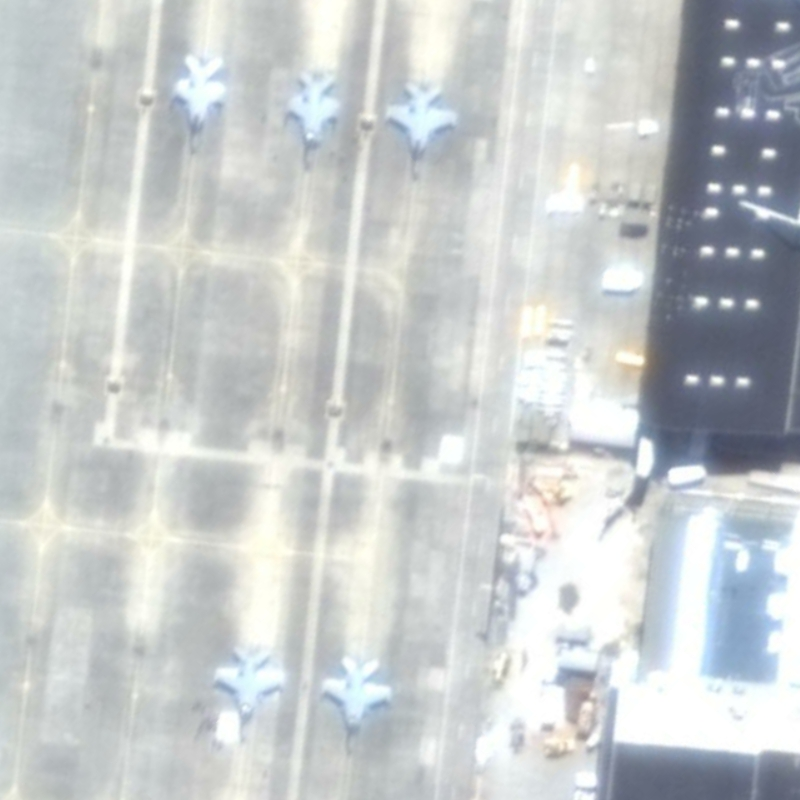A16: (311, 652, 399, 758), (208, 639, 291, 750), (383, 75, 462, 184), (275, 58, 349, 174), (170, 46, 229, 157)
